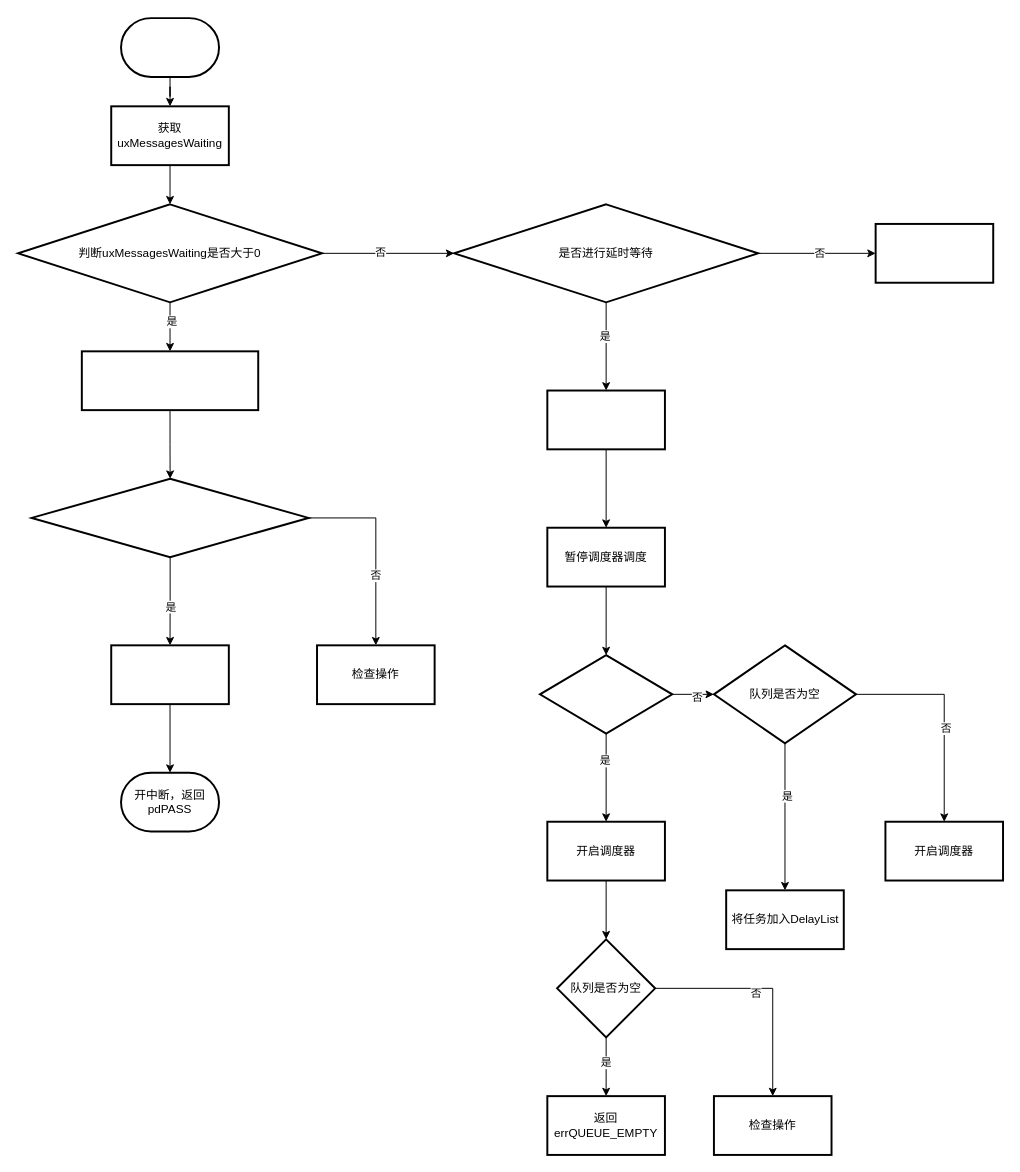
Some shapes in this 1020 by 1172 pixel diagram are drawn without their labels. Here are the shapes that lost their labels. From the top down, the centre of each, then its label:
At (170,47): "关中断".
At (934,252): "开中断，返回errQUEUE_EMPTY".
At (169,380): "uxMessagesWaiting - 1".
At (605,419): "开中断".
At (169,517): "判断等待发送队列是否不为空".
At (169,674): "将队列移出事件链表".
At (606,694): "检查是否超时".
